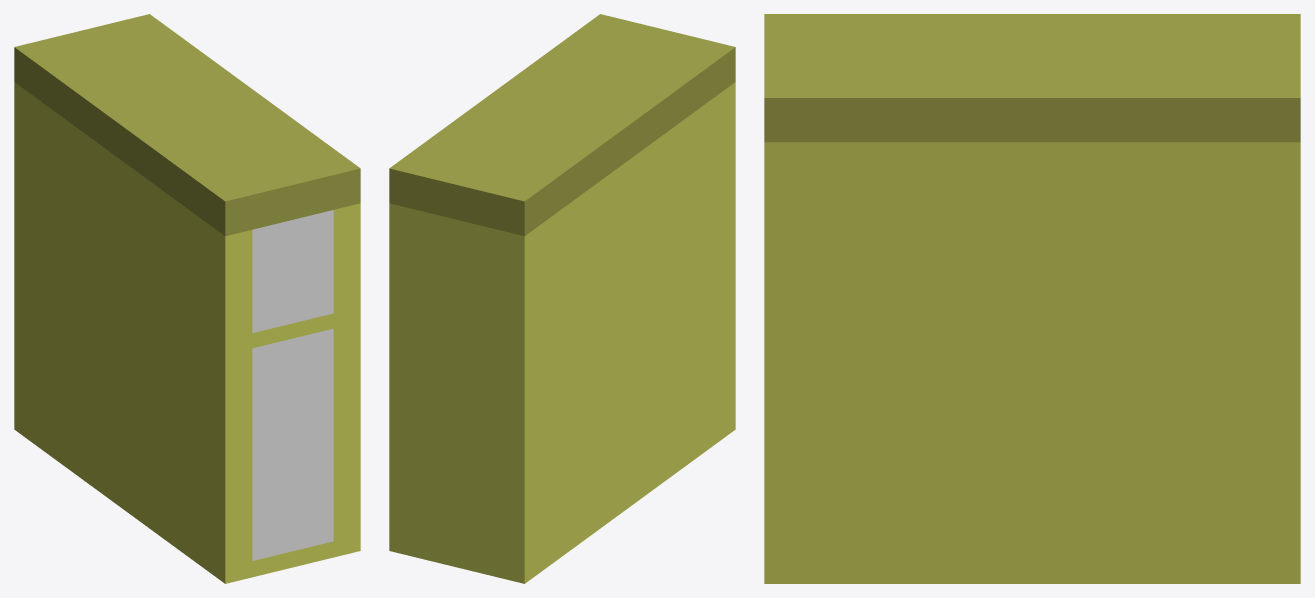
The model's file is BoxedFoodsV1.fbx.
3 views of the same model, side by side, from view 1: azimuth 30°, elevation 25°; view 2: azimuth 150°, elevation 25°; view 3: azimuth 270°, elevation 25° (orthographic). The views are drawn at different scales.
Parts seen in each view (by area): view 1: Cube.001; view 2: Cube.001; view 3: Cube.001.
Boxes of the visible parts, left/top/right/bottom form: Cube.001: left=14, top=14, right=360, bottom=583; Cube.001: left=389, top=14, right=735, bottom=583; Cube.001: left=764, top=14, right=1300, bottom=583.
Bounding box in the file's own units: 200 × 74.11 × 200.
